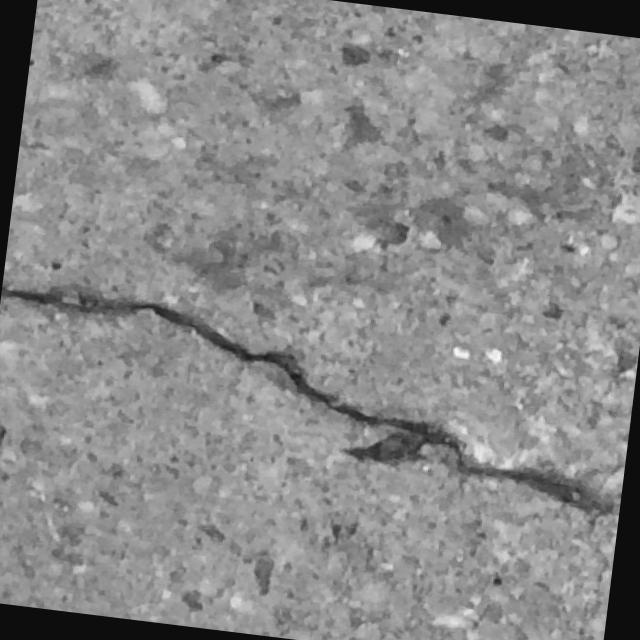crack: (0, 275, 634, 526)
